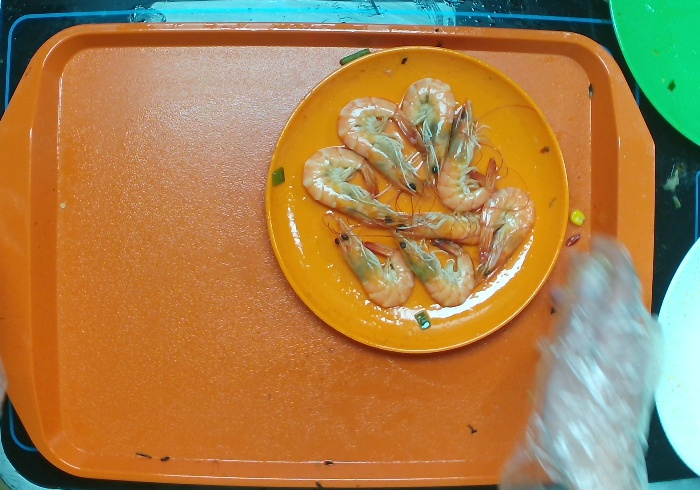HZYJPL-Ju_Huang_Yuan_Pan: (262, 44, 570, 355)
